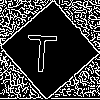T: (25, 25, 59, 73)
